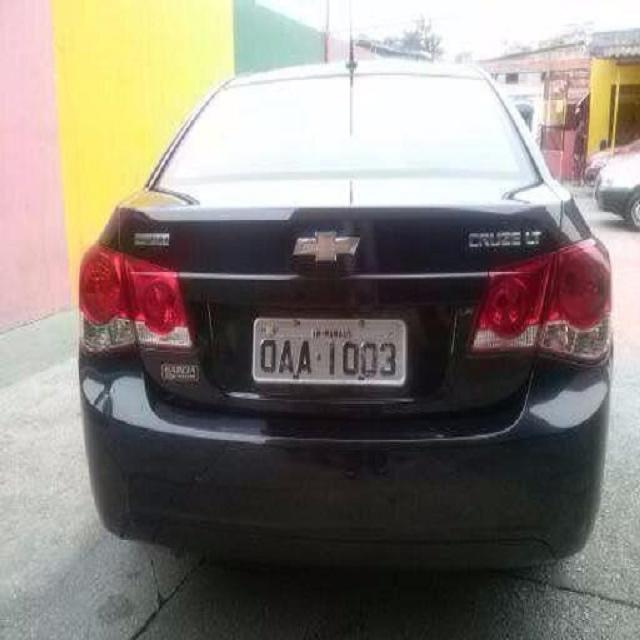Placa: (249, 315, 411, 392)
